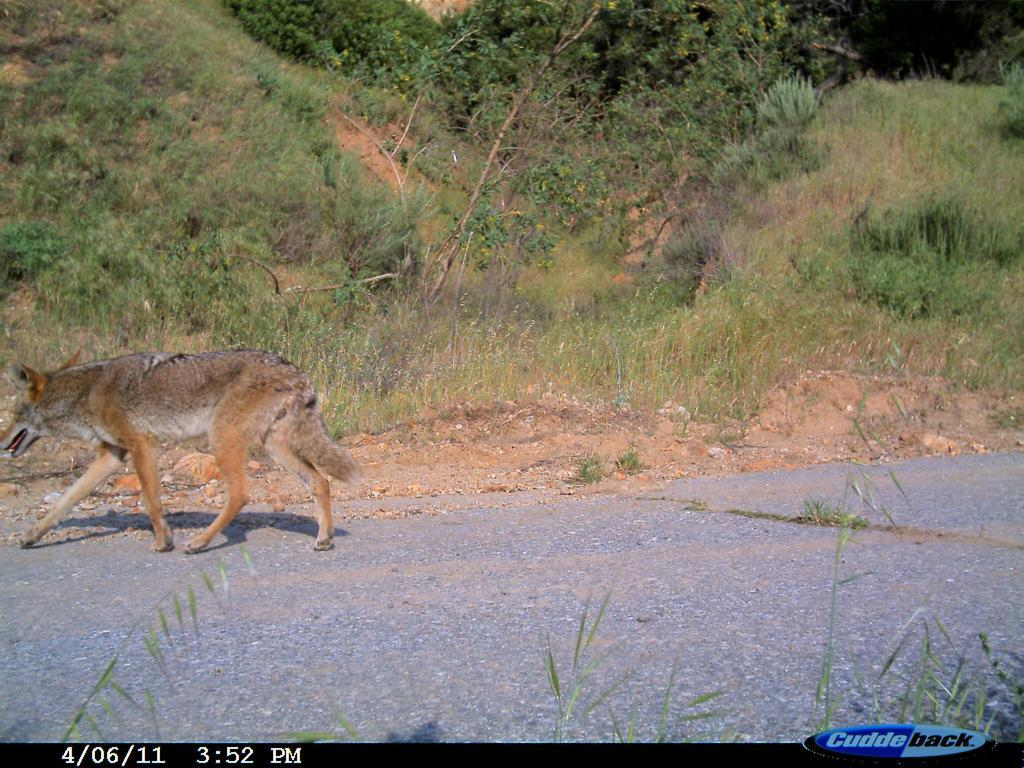coyote: (1, 335, 373, 564)
